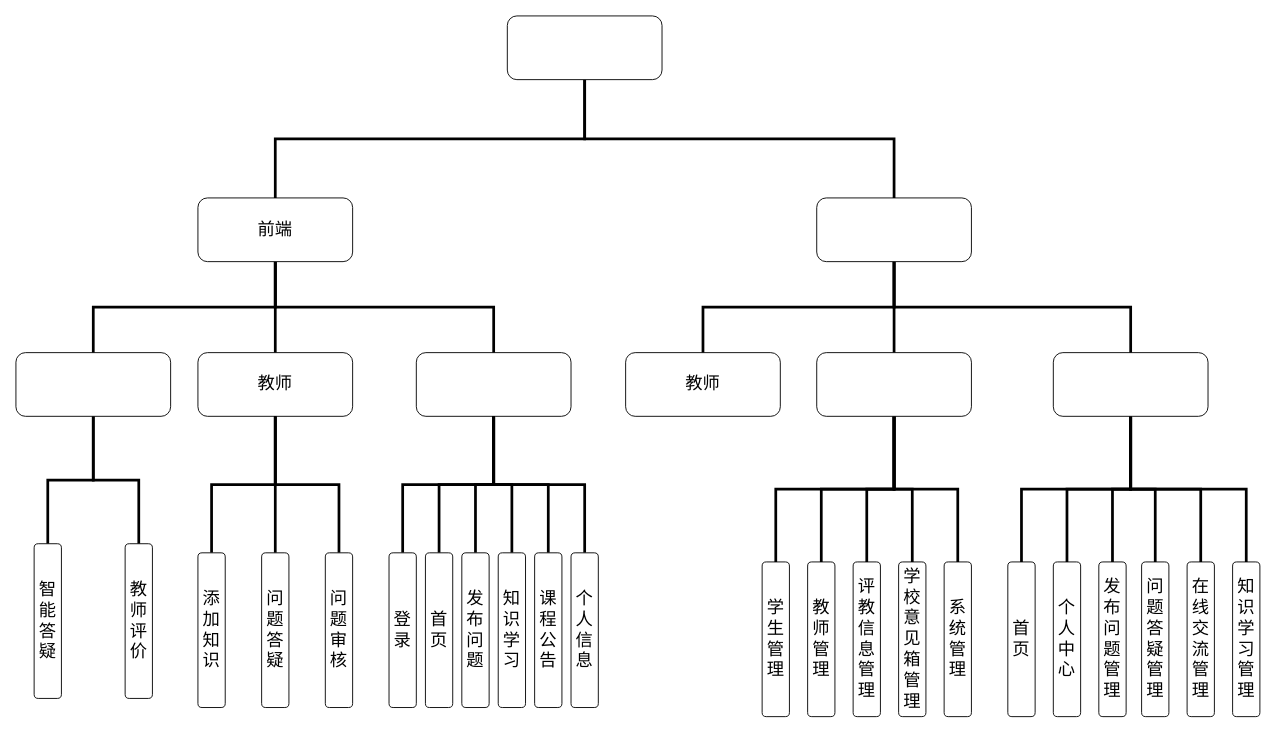
Image size: 1276x733. Some labels were removed from this diagram. The centre of each missing label's shape, as x and y in pixels:
《程序设计基础》智能答疑系统: pixel 584 47
后端: pixel 893 229
学生: pixel 93 384
管理员: pixel 893 384
通用功能: pixel 493 384
通用功能模块: pixel 1130 384
